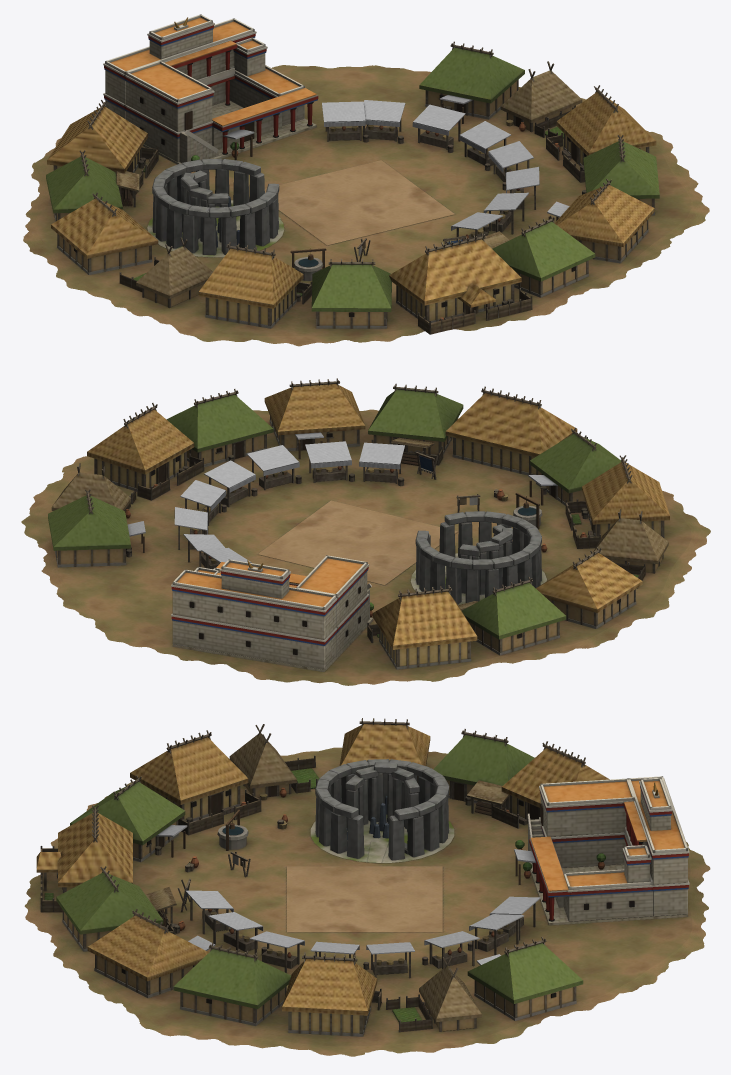
File: bronze-town-medium-b-europe-bdeed647.glb
3 renders of one model, top to bottom at view 1: azimuth 30°, elevation 25°; view 2: azimuth 150°, elevation 25°; view 3: azimuth 270°, elevation 25°, orthographic. The views are drawn at different scales.
Parts seen in each view (by area): view 1: LOD0; view 2: LOD0; view 3: LOD0.
Boxes of the visible parts, x1,y1,x2,y2 form: LOD0: (23,14,709,346); LOD0: (21,378,710,685); LOD0: (24,718,710,1056).
Size of what is drawn, in the model's own units: 5.92 by 0.8738 by 5.6.
3 materials, 3 textured.
